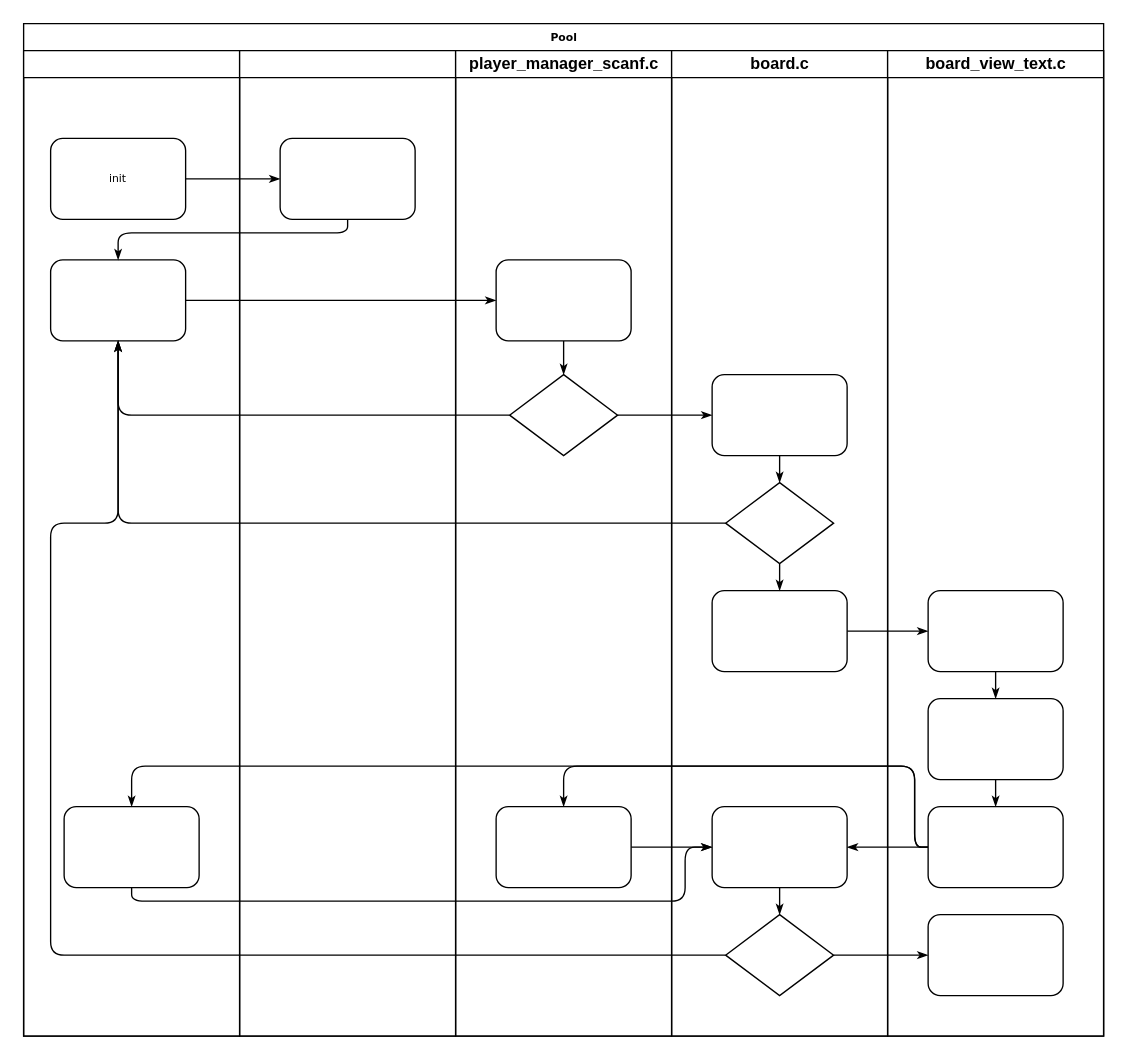
The diagram is 1127 pixels wide and 1060 high, and some of its shapes have lost their labels. Each missing label, with the box of its shape:
game.c: (238, 49, 456, 1036)
main.c: (22, 49, 240, 1036)
